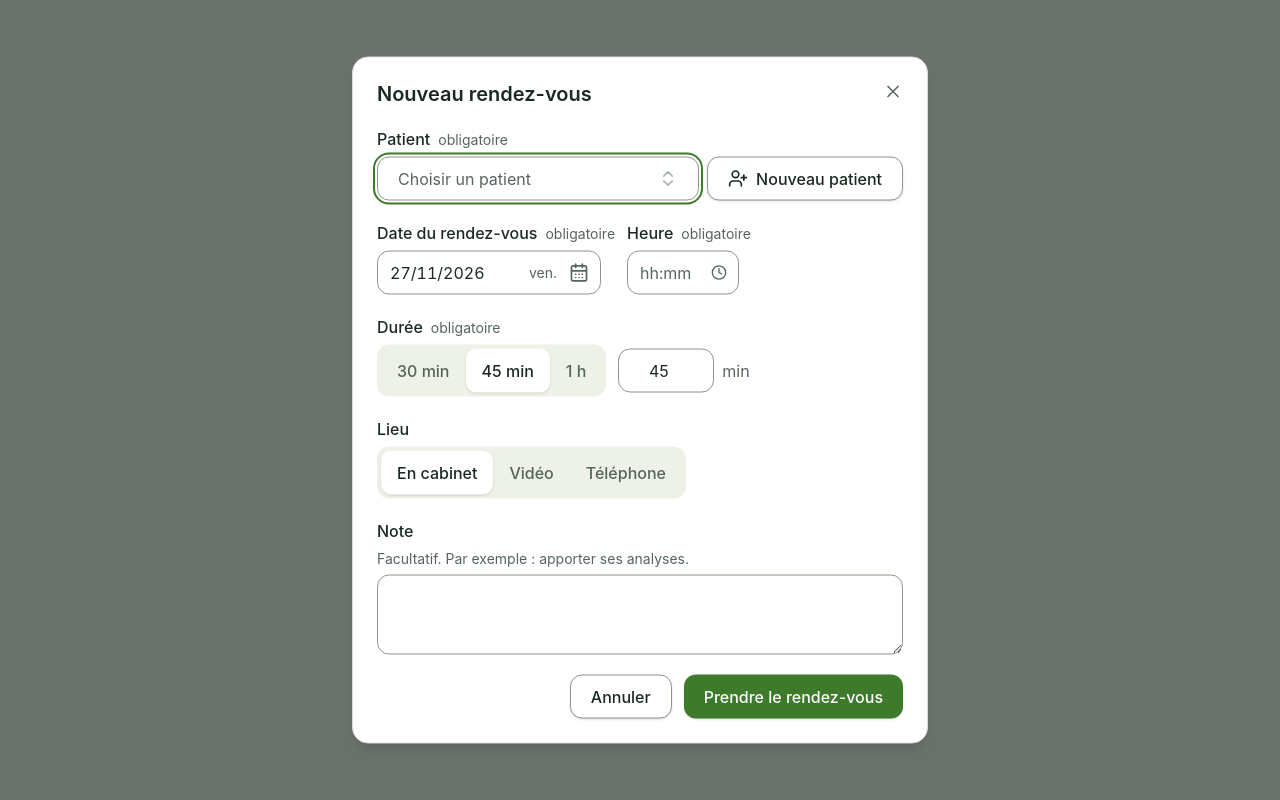
Test: AppointmentFormDialog: « Nouveau patient » from the agenda › offers it from the patient search, with the name typed there
Click the dropdown "Choisir un patient" at x=464, y=178, box [377, 156, 699, 200]
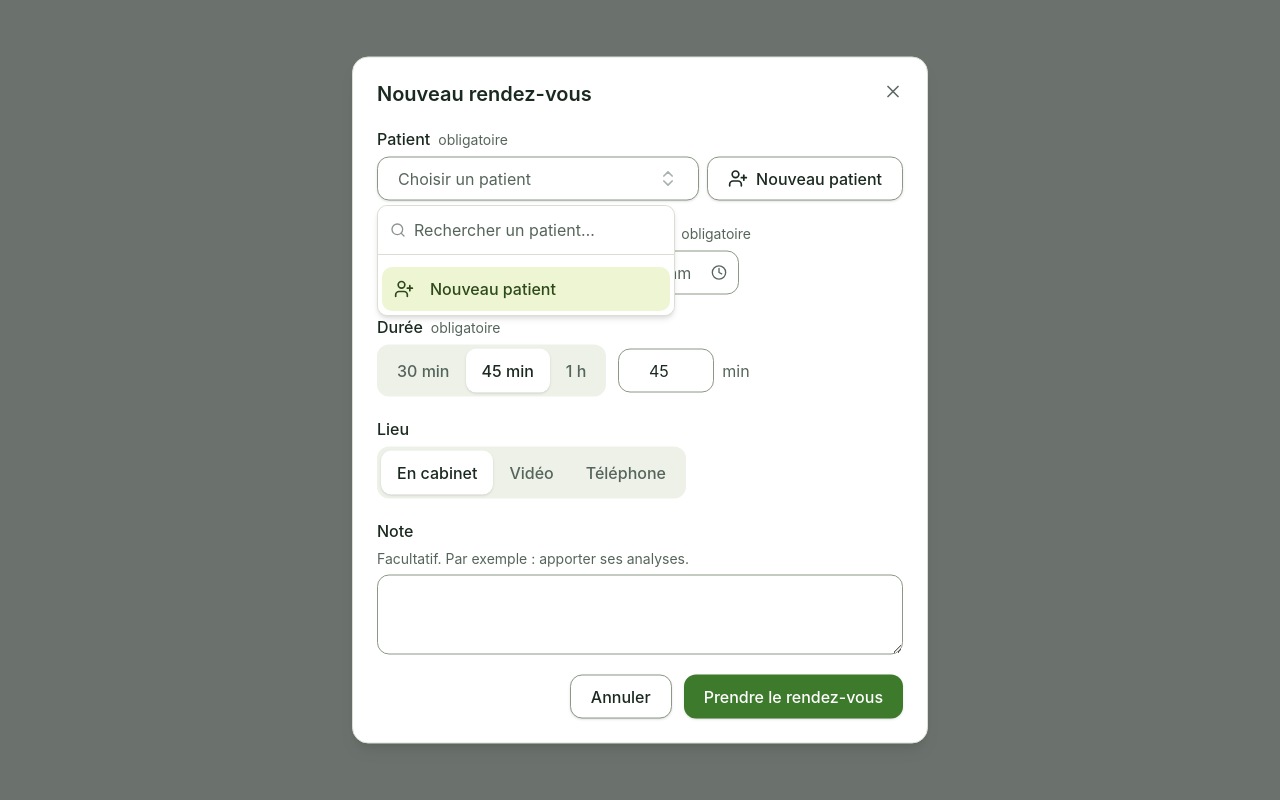
Type "Marie Dupont" into the dropdown with placeholder "Rechercher un patient…" at x=538, y=230, box [414, 206, 662, 254]
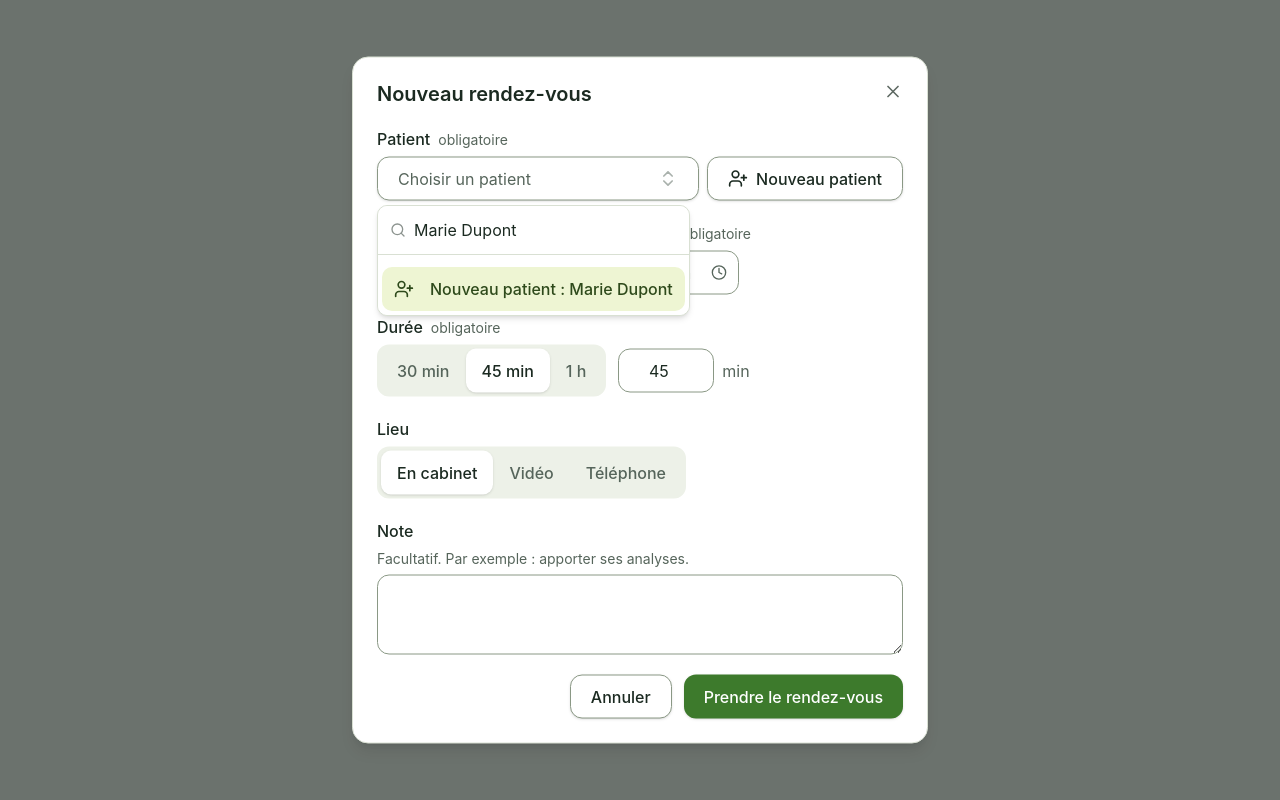
Click the option "Nouveau patient : Marie Dupont" at x=533, y=289, box [382, 267, 685, 311]
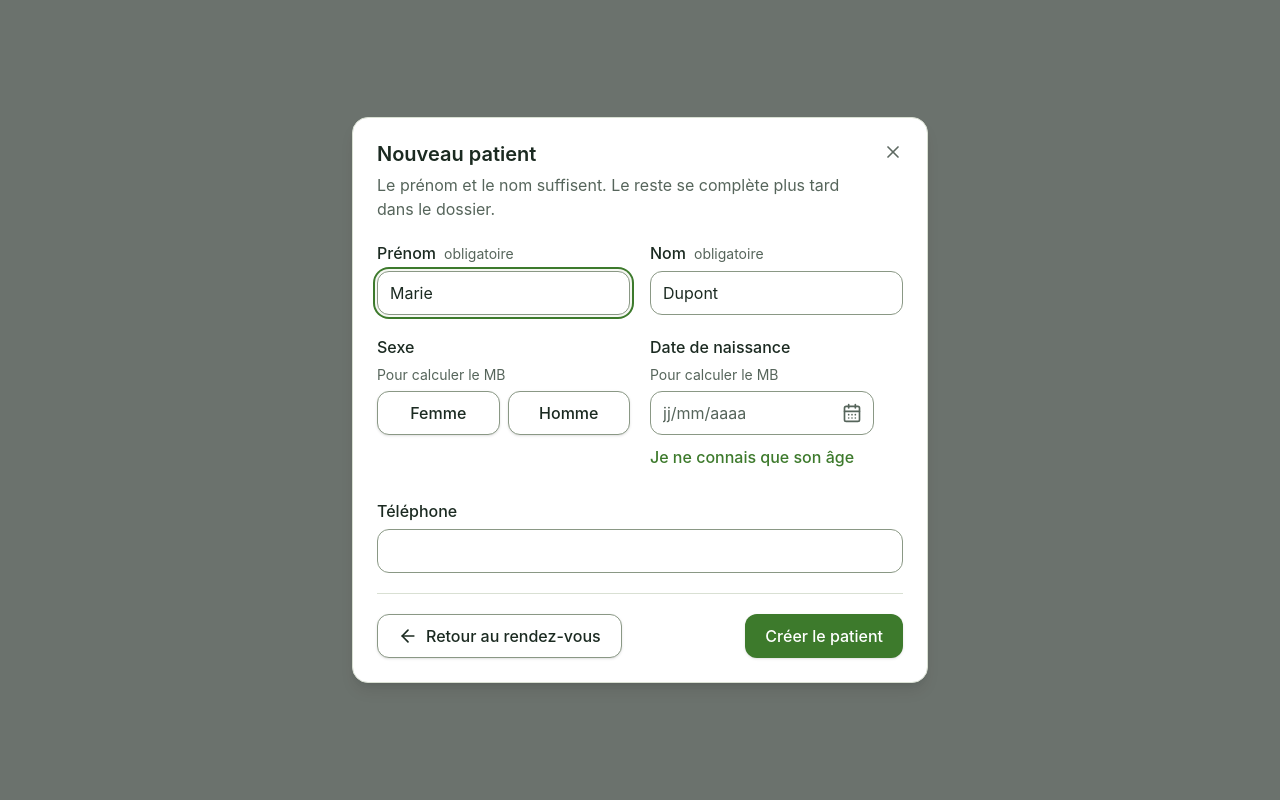
Now the field labelled "Prénom obligatoire" holds "Marie", box [377, 271, 630, 315]
Now the field labelled "Nom obligatoire" holds "Dupont", box [650, 271, 903, 315]
